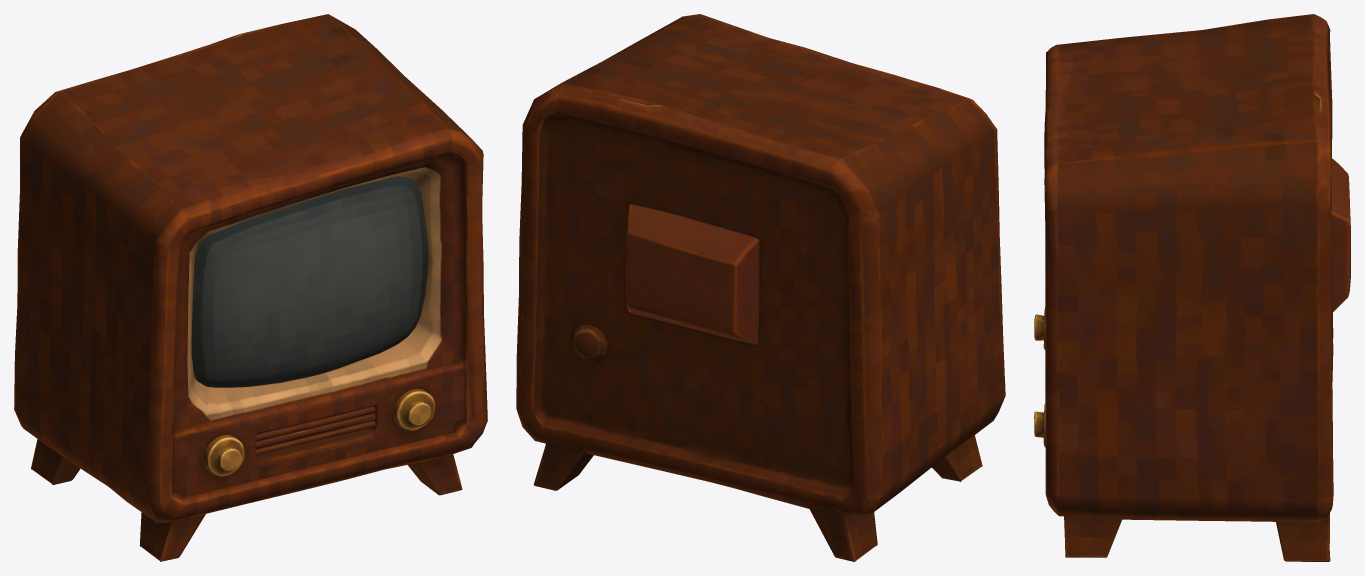
File: monitor.glb
The picture shows the model from 3 angles, left to right: view 1: azimuth 30°, elevation 25°; view 2: azimuth 150°, elevation 25°; view 3: azimuth 270°, elevation 25°; orthographic projection. The views are drawn at different scales.
Visible parts, largest first — view 1: geometry_0; view 2: geometry_0; view 3: geometry_0.
Part boxes in pixels (box(x1,y1,x2,y2)): geometry_0: box(14, 14, 487, 561); geometry_0: box(516, 14, 1005, 561); geometry_0: box(1034, 14, 1350, 561).
Bounding box in the file's own units: 0.943 × 1 × 0.6996.
Materials: 1 (1 with a texture image).
